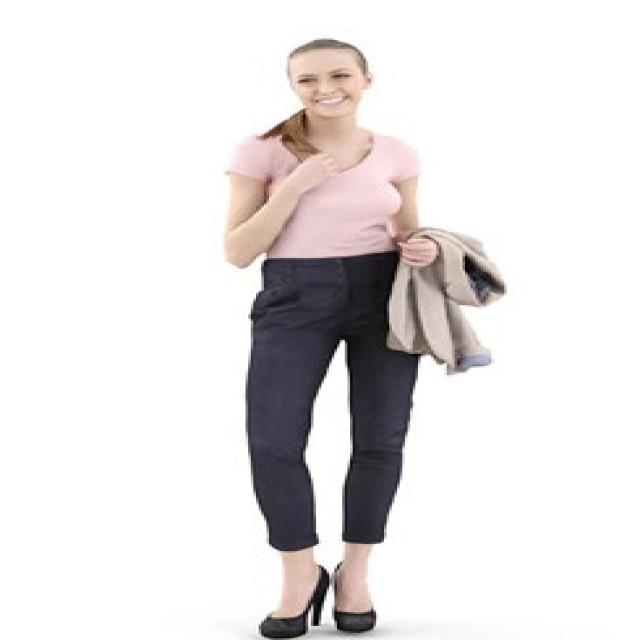standing: (215, 37, 416, 640)
